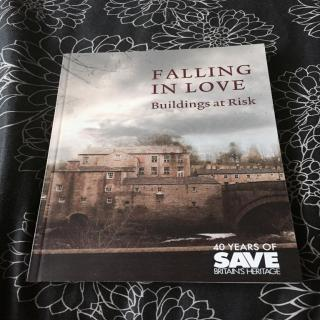book: (29, 40, 305, 284)
